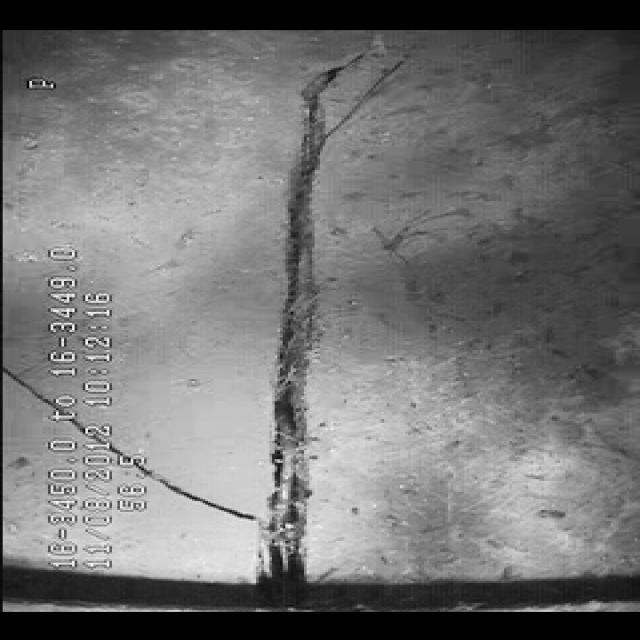Fracture: (192, 54, 428, 582)
